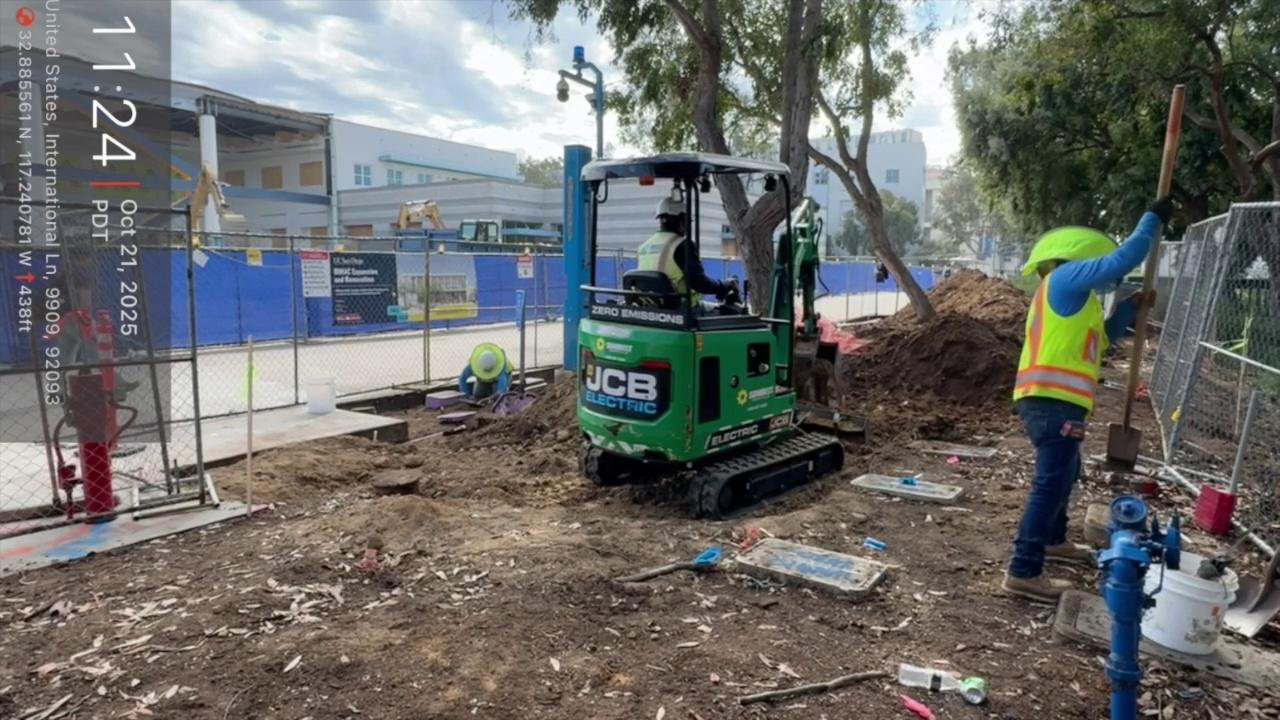Exacavator: (566, 147, 865, 520)
